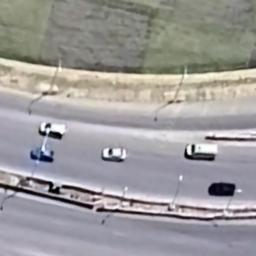sedan: (99, 144, 129, 164), (207, 180, 238, 198), (30, 146, 58, 164)
van: (183, 140, 221, 164), (38, 120, 70, 138)
